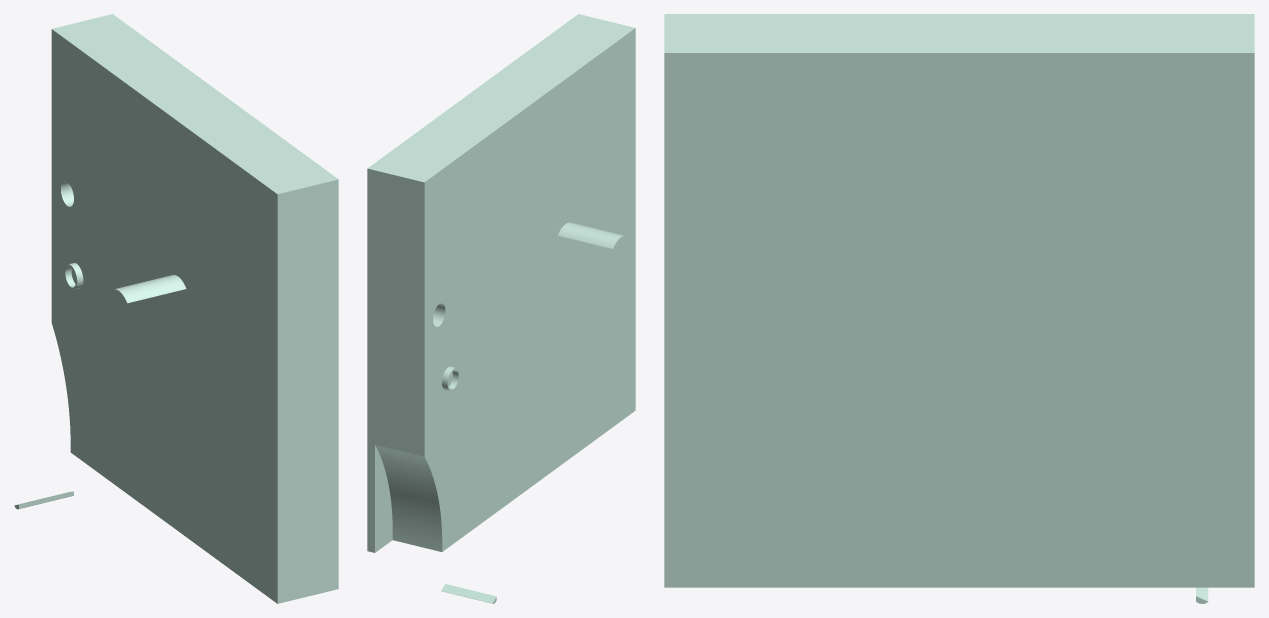
3 views of the same model, side by side, from view 1: azimuth 30°, elevation 25°; view 2: azimuth 150°, elevation 25°; view 3: azimuth 270°, elevation 25° (orthographic). The views are drawn at different scales.
Visible parts, largest first — view 1: Renderer Node; view 2: Renderer Node; view 3: Renderer Node.
Boxes of the visible parts, x1,y1,x2,y2 form: Renderer Node: [14, 14, 338, 603]; Renderer Node: [367, 14, 635, 603]; Renderer Node: [664, 14, 1254, 603].
Bounding box in the file's own units: 0.5078 × 1.65 × 1.5.
